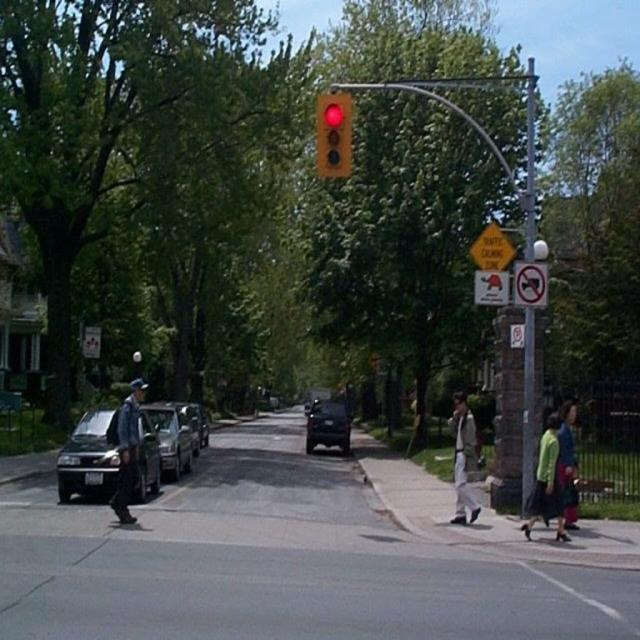road_sign: (516, 263, 549, 306)
traffic light: (319, 98, 350, 173)
